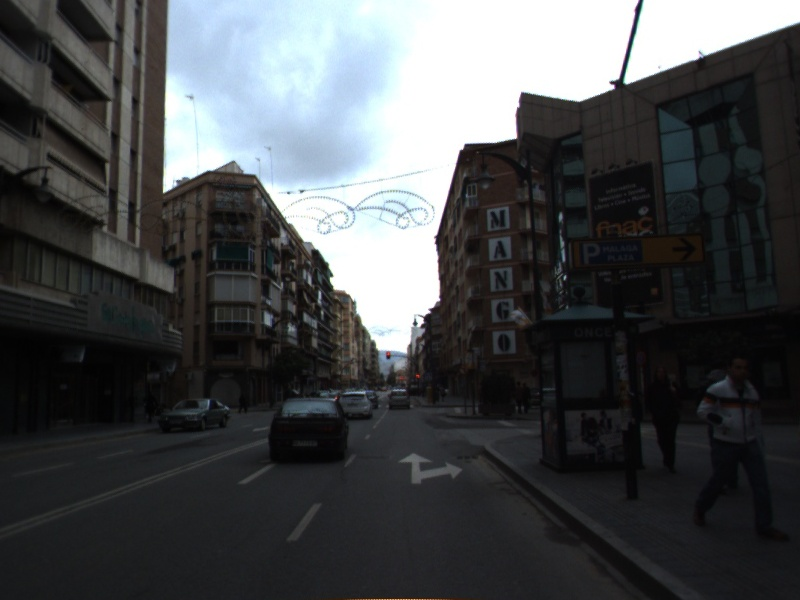STRAIGHT_RIGHT: (396, 451, 465, 486)
